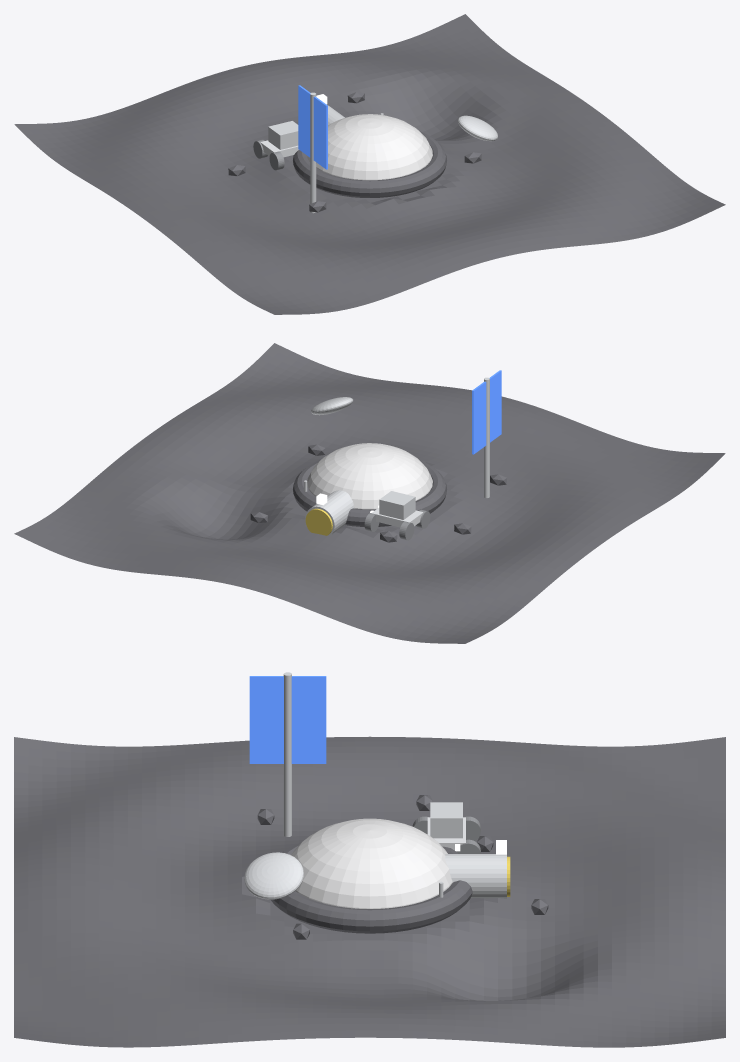
Rendered from lunar_habitat.glb.
3 renders of one model, top to bottom at view 1: azimuth 30°, elevation 25°; view 2: azimuth 150°, elevation 25°; view 3: azimuth 270°, elevation 25°, orthographic. The views are drawn at different scales.
Parts seen in each view (by area): view 1: Lunar_Terrain_Regolith, Artemis_Habitat_Main_Dome, Regolith_Shielding_Berm, Solar_Tower_Panels, Lunar_Rover_Canopy, High_Gain_Comms_Dish, Solar_Tower_Mast; view 2: Lunar_Terrain_Regolith, Artemis_Habitat_Main_Dome, Regolith_Shielding_Berm, Solar_Tower_Panels, Habitat_EVA_Airlock, Lunar_Rover_Canopy, Solar_Tower_Mast, EVA_Airlock_Hatch, High_Gain_Comms_Dish; view 3: Lunar_Terrain_Regolith, Artemis_Habitat_Main_Dome, Solar_Tower_Panels, Regolith_Shielding_Berm, High_Gain_Comms_Dish, Habitat_EVA_Airlock, Solar_Tower_Mast, Lunar_Rover_Canopy.
Boxes of the visible parts, <box> form: Lunar_Terrain_Regolith: <box>14,14,725,314</box>; Artemis_Habitat_Main_Dome: <box>307,114,432,180</box>; Regolith_Shielding_Berm: <box>293,131,446,197</box>; Solar_Tower_Panels: <box>298,85,327,169</box>; Lunar_Rover_Canopy: <box>268,121,298,149</box>; High_Gain_Comms_Dish: <box>458,115,497,141</box>; Solar_Tower_Mast: <box>310,92,316,213</box>; Lunar_Terrain_Regolith: <box>14,343,725,643</box>; Artemis_Habitat_Main_Dome: <box>307,443,432,509</box>; Regolith_Shielding_Berm: <box>293,460,446,526</box>; Solar_Tower_Panels: <box>472,370,501,454</box>; Habitat_EVA_Airlock: <box>305,490,353,535</box>; Lunar_Rover_Canopy: <box>379,491,415,519</box>; Solar_Tower_Mast: <box>484,377,489,497</box>; EVA_Airlock_Hatch: <box>305,508,332,535</box>; High_Gain_Comms_Dish: <box>311,397,353,415</box>; Lunar_Terrain_Regolith: <box>14,736,725,1047</box>; Artemis_Habitat_Main_Dome: <box>291,818,452,908</box>; Solar_Tower_Panels: <box>249,676,326,763</box>; Regolith_Shielding_Berm: <box>270,842,472,933</box>; High_Gain_Comms_Dish: <box>244,852,303,899</box>; Habitat_EVA_Airlock: <box>445,854,506,898</box>; Solar_Tower_Mast: <box>283,672,291,836</box>; Lunar_Rover_Canopy: <box>430,802,462,838</box>.
Bounding box in the file's own units: 26 × 8.13 × 26.
